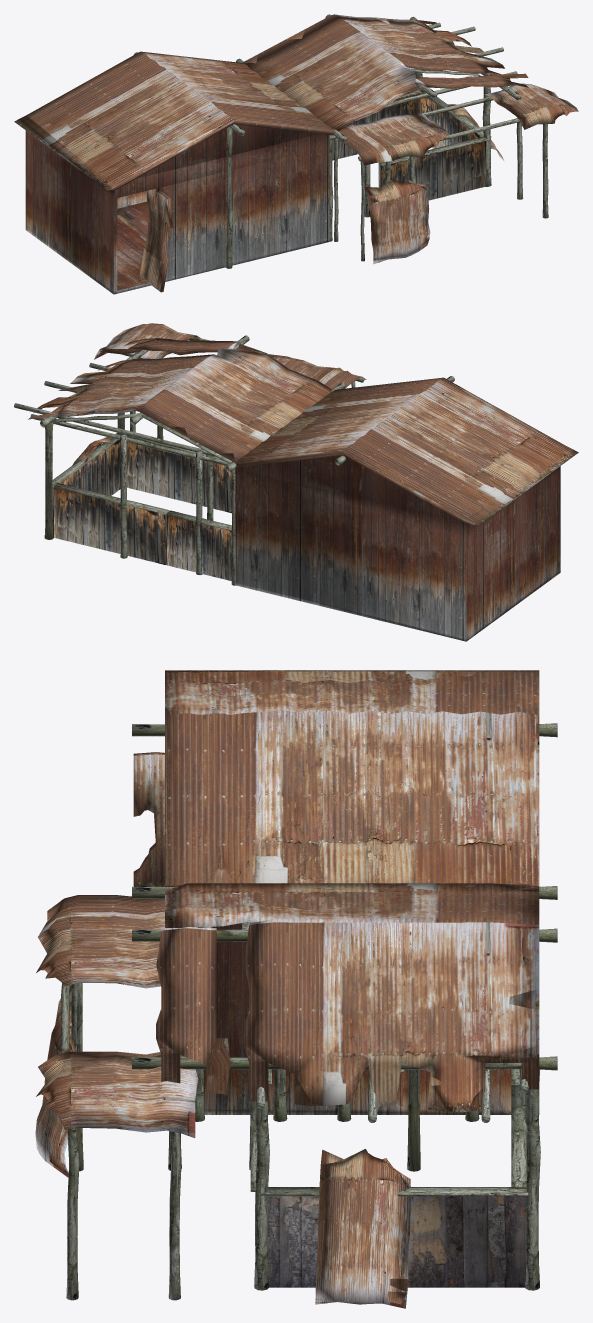
File: shanty1.fbx
The picture shows the model from 3 angles, top to bottom: view 1: azimuth 30°, elevation 25°; view 2: azimuth 150°, elevation 25°; view 3: azimuth 270°, elevation 25°; orthographic projection. The views are drawn at different scales.
Parts seen in each view (by area): view 1: U3DMesh; view 2: U3DMesh; view 3: U3DMesh.
Boxes of the visible parts, x1,y1,x2,y2 form: U3DMesh: [14, 14, 578, 294]; U3DMesh: [14, 323, 578, 641]; U3DMesh: [35, 670, 557, 1308].
Bounding box in the file's own units: 410 × 135 × 207.
